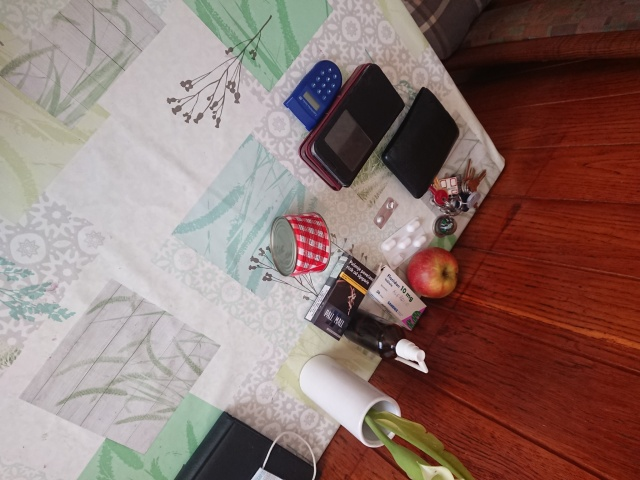Podravka Luncheon Meat 150g: (268, 210, 333, 279)
